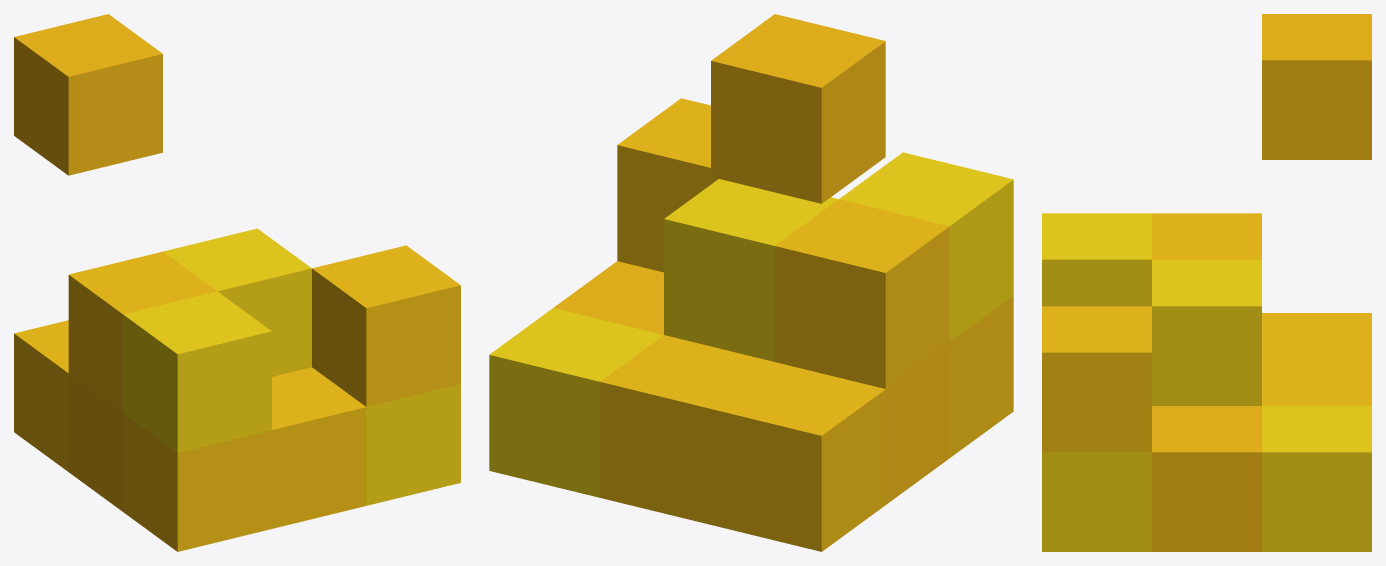
Rendered from wall_torch_6_flames.fbx.
3 views of the same model, side by side, from view 1: azimuth 30°, elevation 25°; view 2: azimuth 150°, elevation 25°; view 3: azimuth 270°, elevation 25° (orthographic). The views are drawn at different scales.
Visible parts, largest first — view 1: flames.007; view 2: flames.007; view 3: flames.007.
Boxes of the visible parts, x1=… form: flames.007: x1=14, y1=14, x2=460, y2=551; flames.007: x1=489, y1=14, x2=1013, y2=551; flames.007: x1=1042, y1=14, x2=1371, y2=551.
Bounding box in the file's own units: 300 × 400 × 300.
